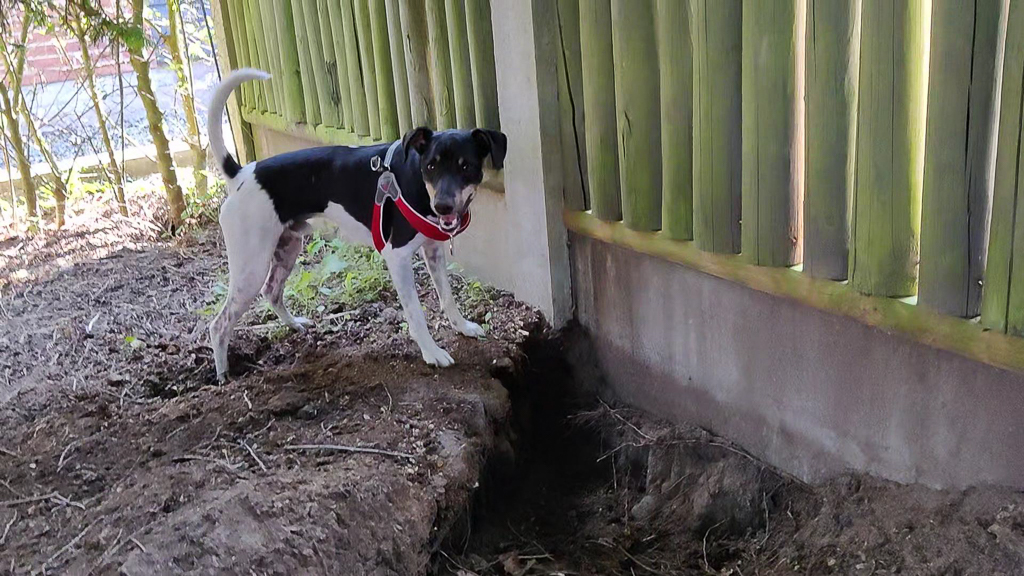Dog: (180, 56, 533, 393)
